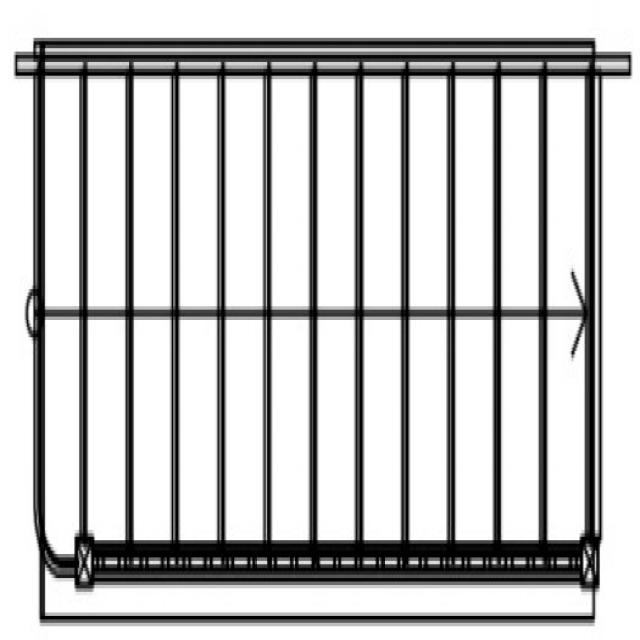stair: (12, 14, 630, 636)
